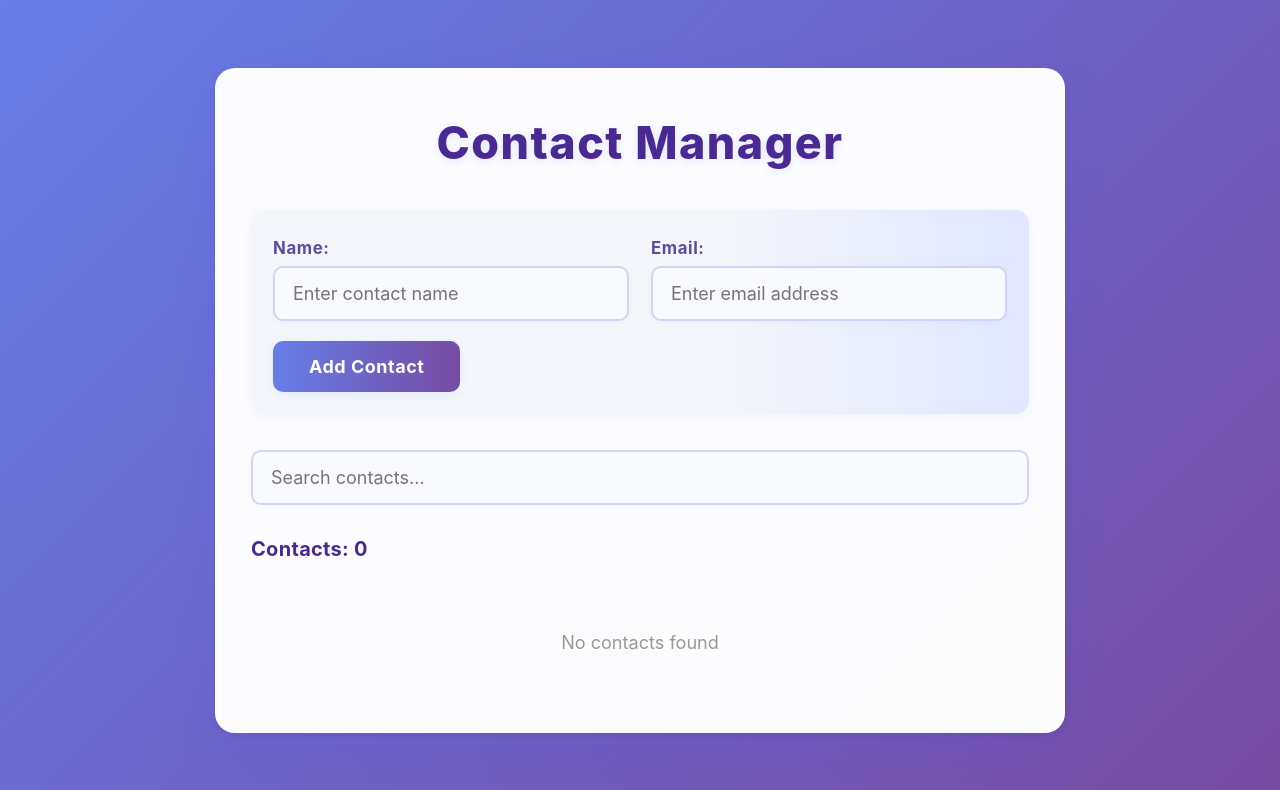
Test: Contact Manager App - Complete Tests › Form Validation › shows error for name containing numbers
// Fill form with name containing numbers
In the field labelled "Name:": x=451, y=294 left=273, top=266, right=629, bottom=321, type "John123"
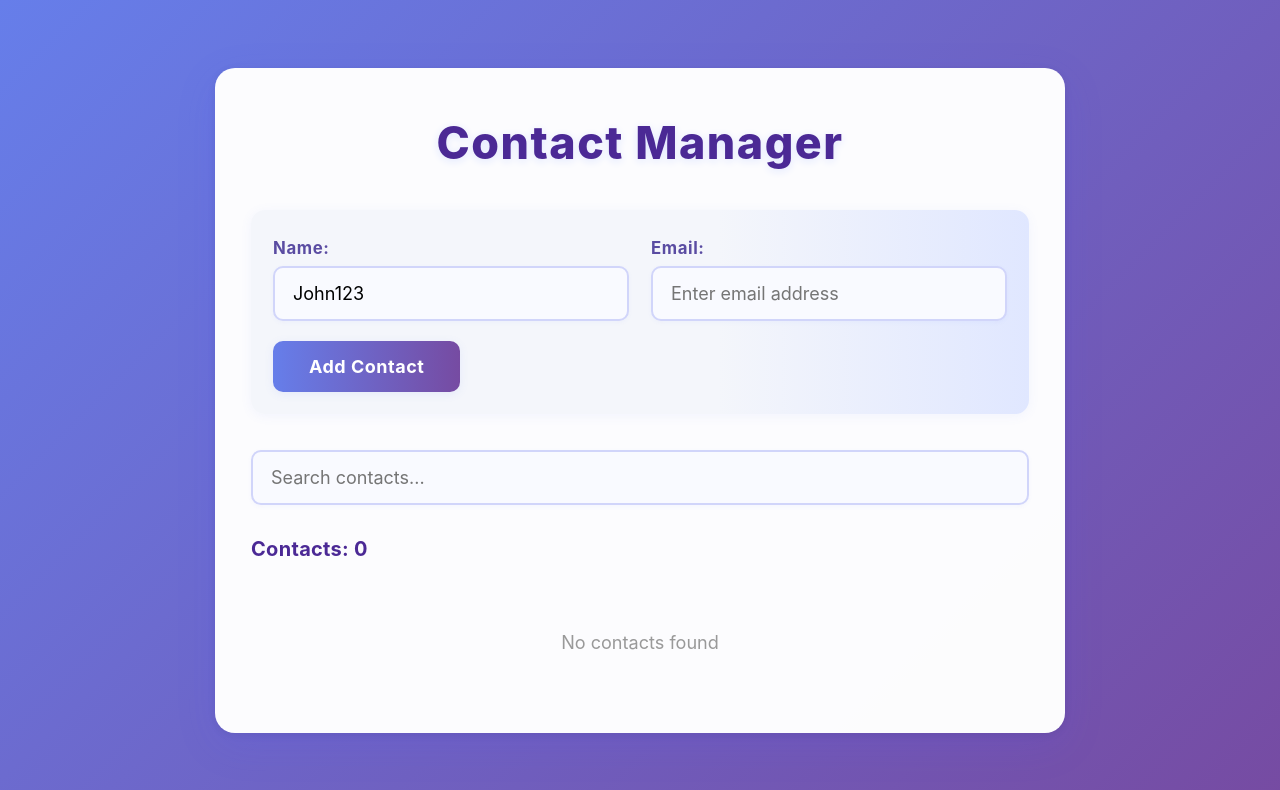
In the field labelled "Email:": x=829, y=294 left=651, top=266, right=1007, bottom=321, type "john@example.com"
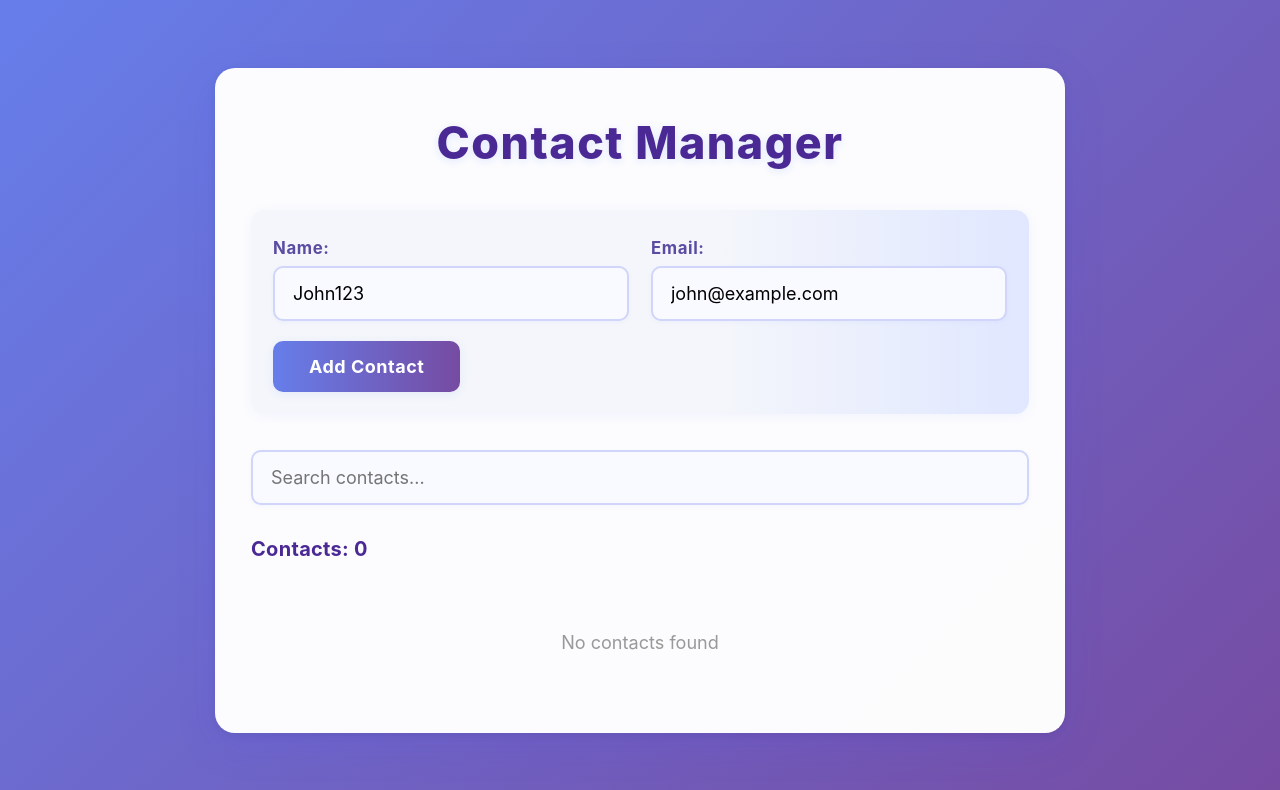
Click the button "Add Contact": x=367, y=366 left=273, top=341, right=460, bottom=392
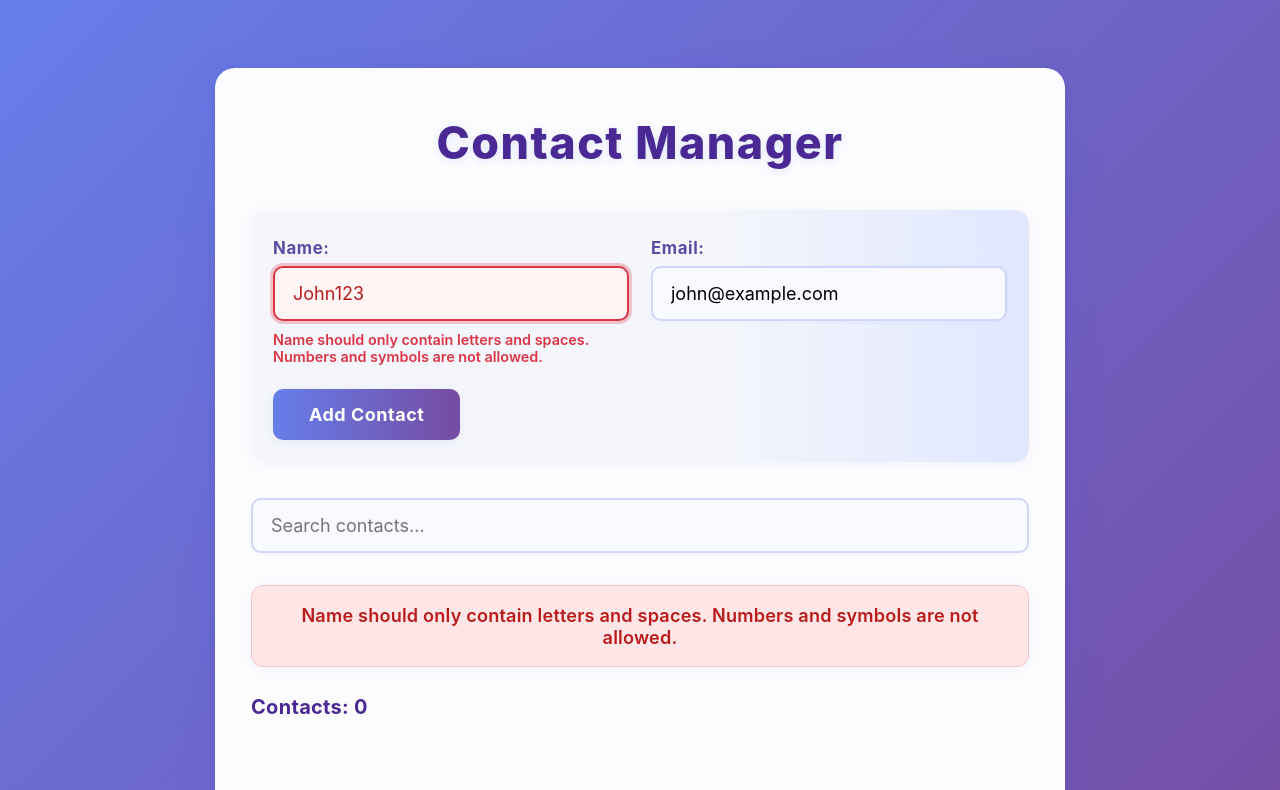
Check: the text "Name should only contain letters and spaces. Numbers and symbols are not allowed." is shown 2 times, box left=273, top=327, right=629, bottom=369; left=251, top=585, right=1029, bottom=667
Check: the 2nd text "Name should only contain letters and spaces. Numbers and symbols are not allowed." is shown, box left=301, top=604, right=979, bottom=648
